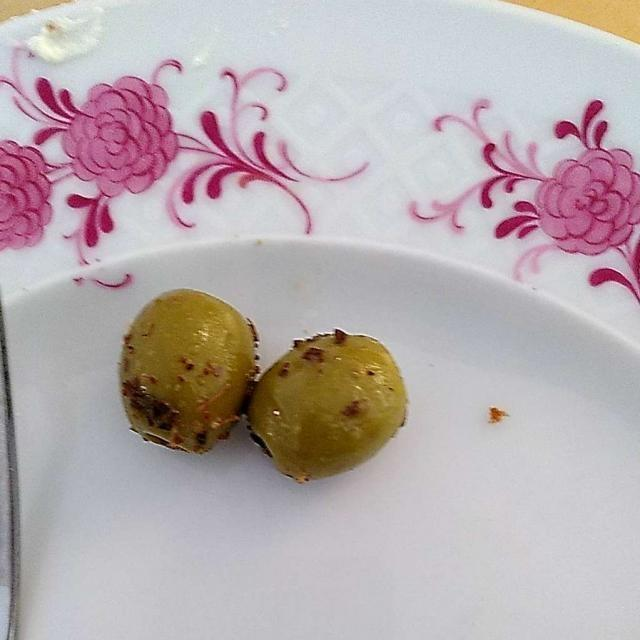green-olives: (106, 288, 410, 472)
